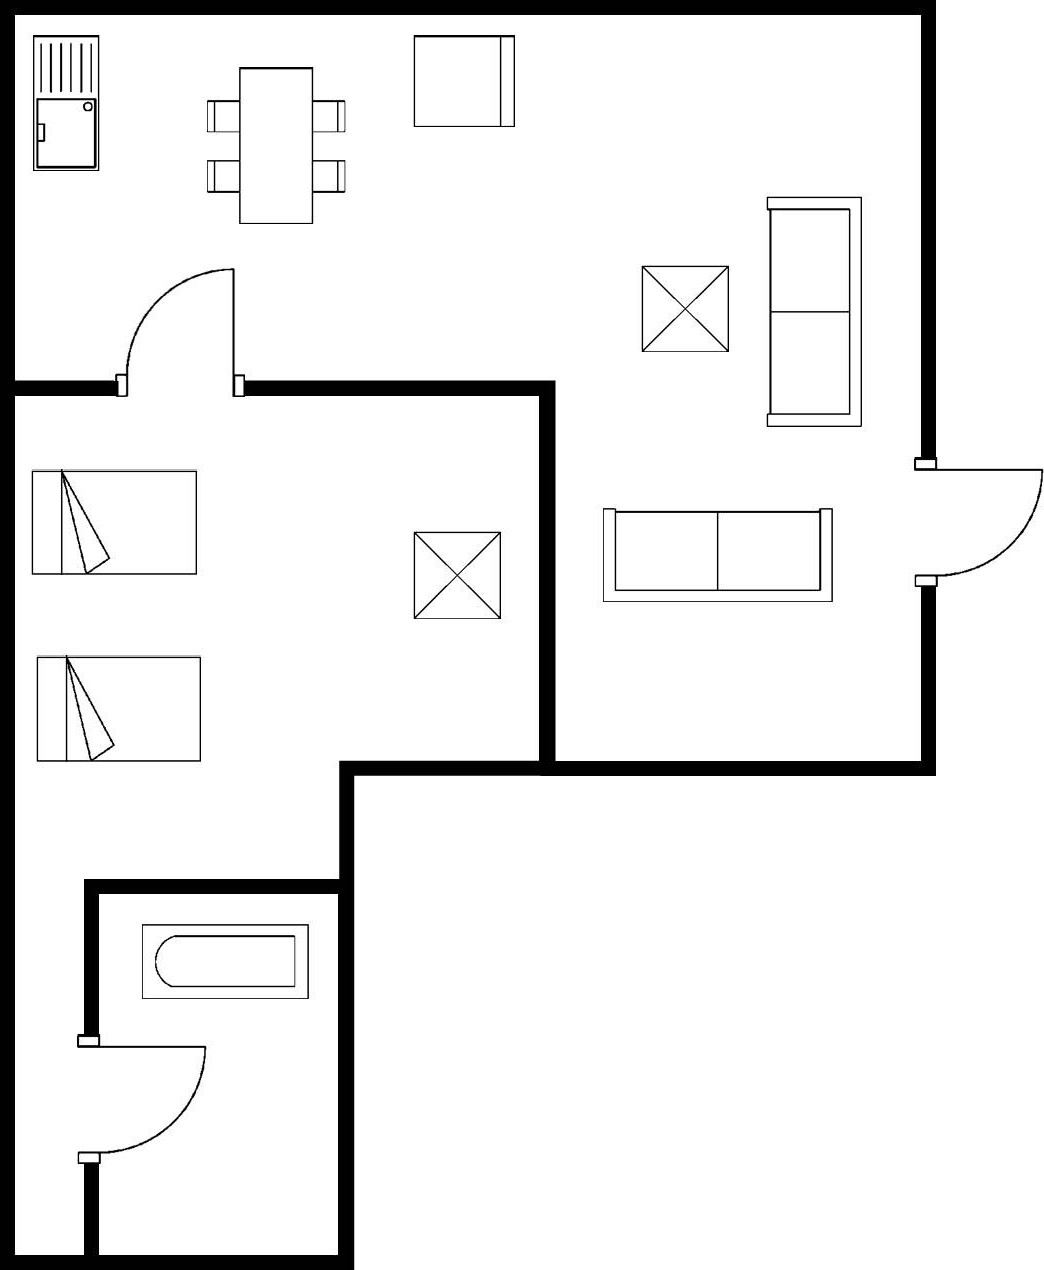bed: (29, 650, 211, 771), (23, 465, 203, 585)
coffee_table: (402, 524, 507, 627), (637, 260, 734, 361)
dining_table: (201, 59, 350, 230)
large_sofa: (595, 499, 839, 611), (759, 188, 868, 438)
sink: (24, 24, 107, 180)
small_sofa: (406, 28, 526, 138)
tub: (135, 916, 317, 1011)
